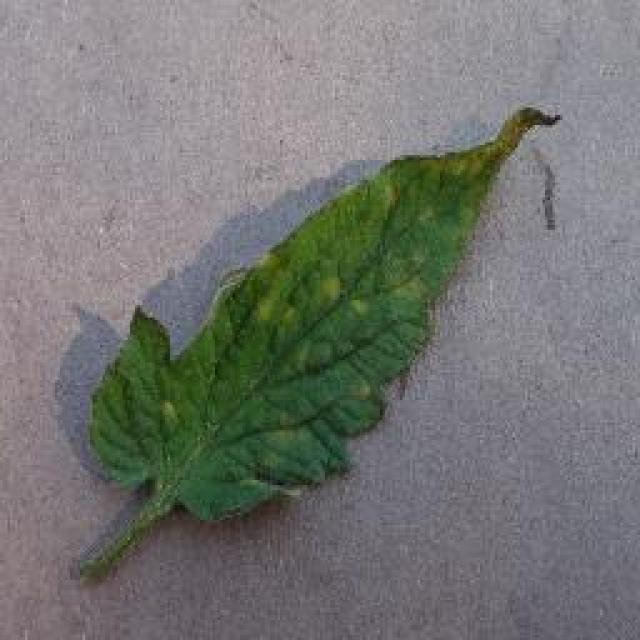Tom_Leaf_Mold: (255, 240, 431, 360)
